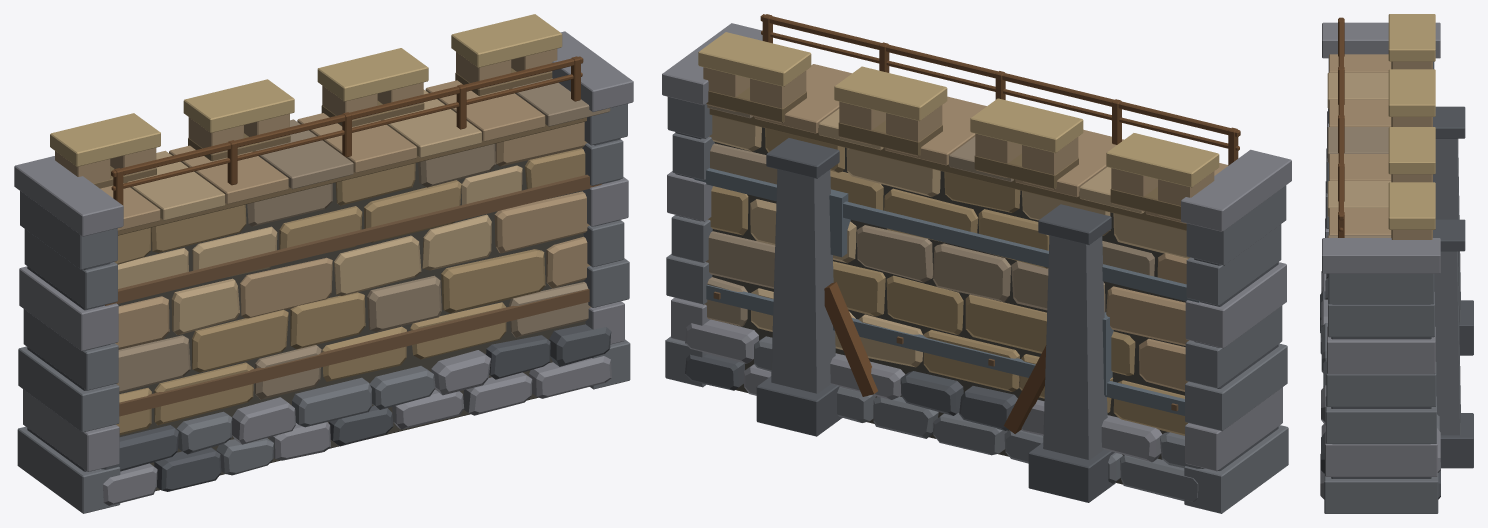
File: mdl_wall_segment_reinforced_v2.glb
3 renders of one model, left to right at view 1: azimuth 30°, elevation 25°; view 2: azimuth 150°, elevation 25°; view 3: azimuth 270°, elevation 25°, orthographic. The views are drawn at different scales.
Visible parts, largest first — view 1: GEO_Wall_Segment_Reinforced_Detail, GEO_Wall_Segment_Reinforced; view 2: GEO_Wall_Segment_Reinforced, GEO_Wall_Segment_Reinforced_Detail; view 3: GEO_Wall_Segment_Reinforced, GEO_Wall_Segment_Reinforced_Detail.
Boxes of the visible parts, left/top/right/bottom form: GEO_Wall_Segment_Reinforced_Detail: left=101, top=122, right=611, bottom=505; GEO_Wall_Segment_Reinforced: left=14, top=14, right=633, bottom=513; GEO_Wall_Segment_Reinforced: left=662, top=14, right=1291, bottom=513; GEO_Wall_Segment_Reinforced_Detail: left=685, top=115, right=1205, bottom=501; GEO_Wall_Segment_Reinforced: left=1322, top=14, right=1473, bottom=513; GEO_Wall_Segment_Reinforced_Detail: left=1320, top=271, right=1440, bottom=499.
Bounding box in the file's own units: 7.15 × 4.07 × 2.
